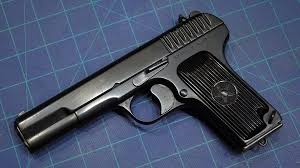gun: (14, 9, 285, 152)
